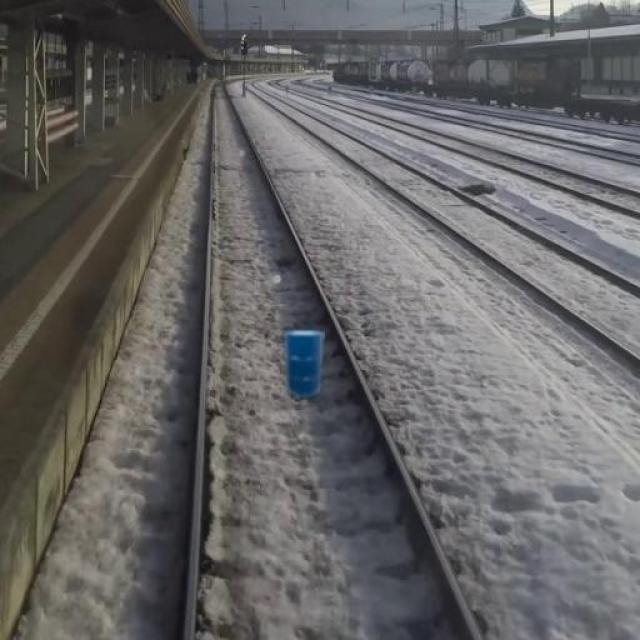Other_objects: (279, 321, 332, 411)
